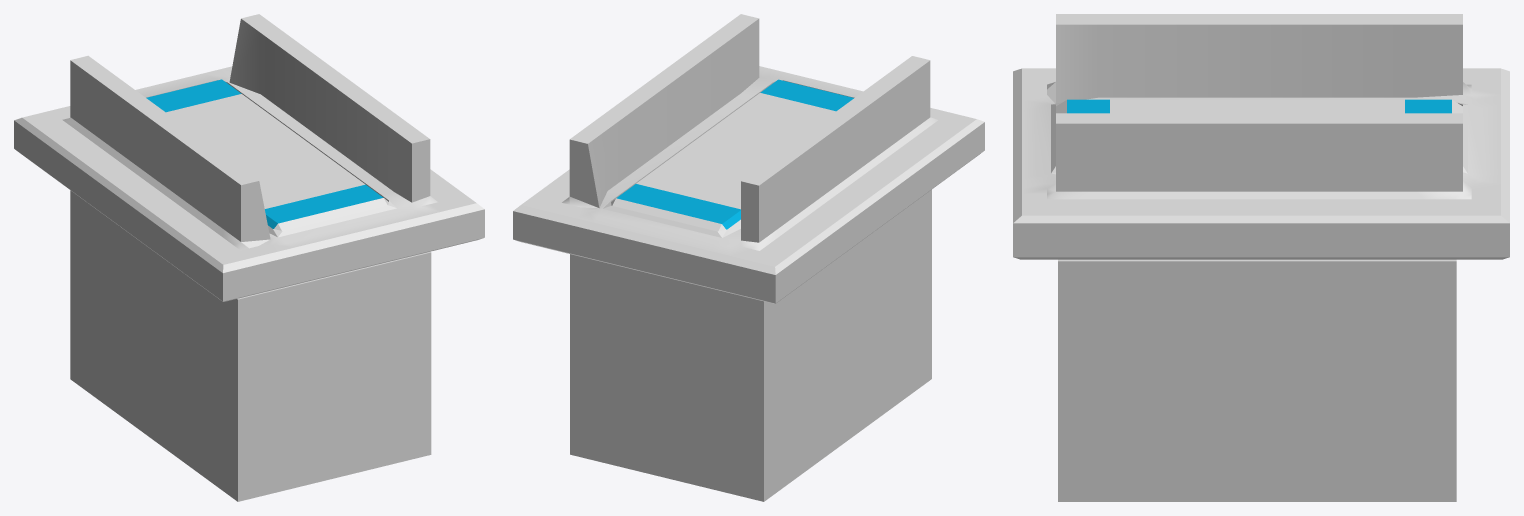
File: baby_changing_station.gltf
3 renders of one model, left to right at view 1: azimuth 30°, elevation 25°; view 2: azimuth 150°, elevation 25°; view 3: azimuth 270°, elevation 25°, orthographic. The views are drawn at different scales.
Parts seen in each view (by area): view 1: Cube; view 2: Cube; view 3: Cube.
Part boxes in pixels (x1=…): Cube: x1=14, y1=14, x2=484, y2=501; Cube: x1=513, y1=14, x2=984, y2=501; Cube: x1=1013, y1=14, x2=1509, y2=501.
Size of the model in its own units: 27.1 by 31.31 by 37.4.
4 materials, 4 textured.
